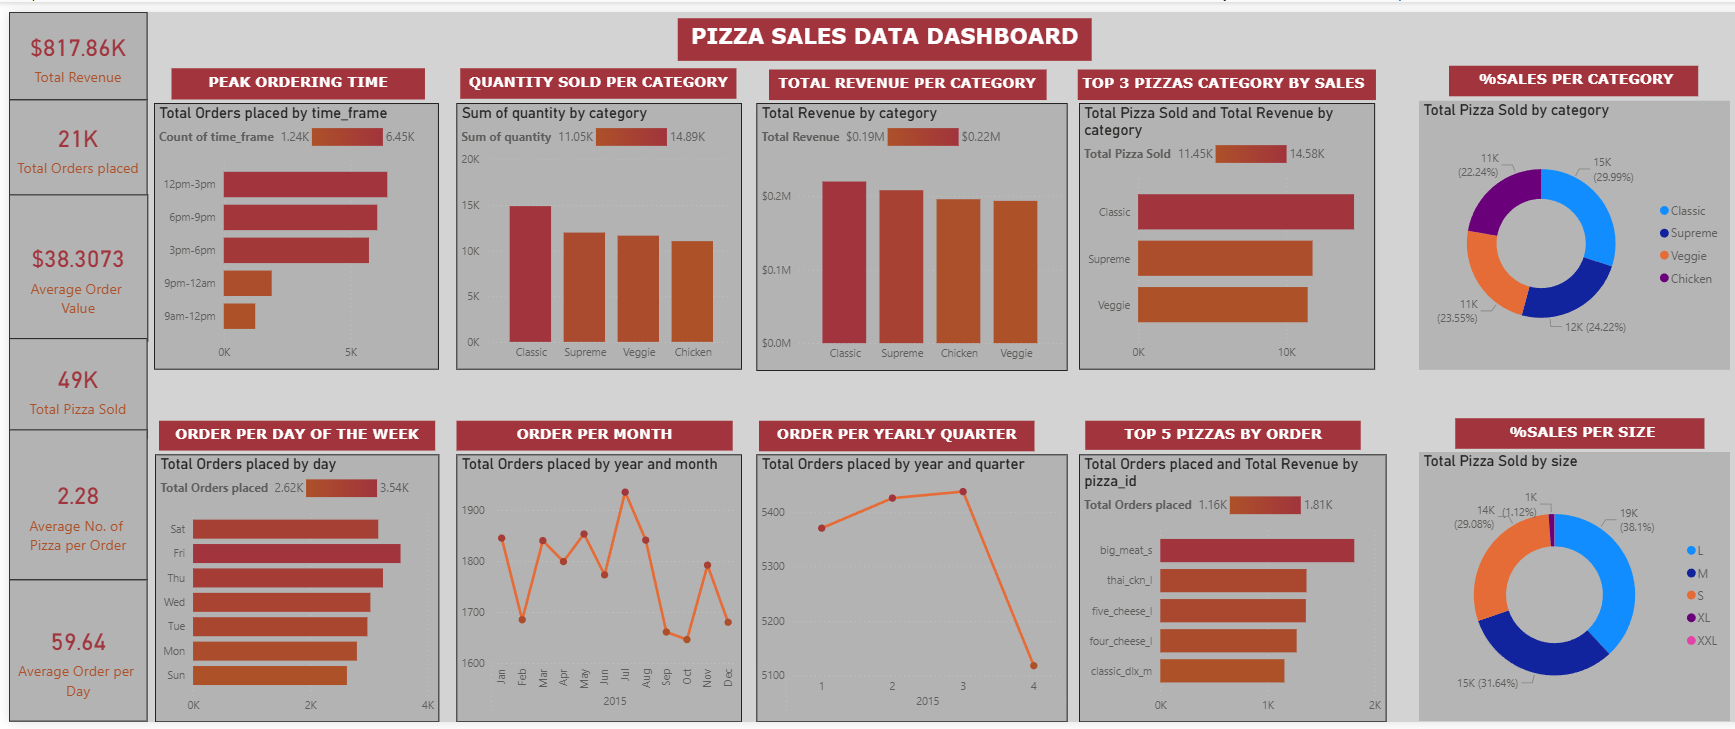

What the dashboard file says about the page in this screenshot:
{"tool":"powerbi","page":{"name":"Page 1","canvas":[2000,800],"ordinal":0},"visuals":[{"type":"barChart","fields":{"Category":["orders.time_frame"],"Y":["orders.Orders placed"]},"box":[163,103.3,320.7,300.3],"z":0},{"type":"card","fields":{"Values":["order_details.Total Revenue"]},"box":[0,0,156.3,99.2],"z":1000},{"type":"card","fields":{"Values":["orders.Total Orders placed"]},"box":[0,98.6,156.3,108.5],"z":2000},{"type":"card","fields":{"Values":["orders.Average Order Value"]},"box":[0,205.8,156.5,165.2],"z":3000},{"type":"card","fields":{"Values":["orders.Total Pizza Sold"]},"box":[0,368.2,156.3,112.8],"z":4000},{"type":"card","fields":{"Values":["order_details.Average No. of Pizza per Order"]},"box":[0,470.1,156.3,169.8],"z":5000},{"type":"card","fields":{"Values":["orders.Average Order per Day"]},"box":[0,639.7,156.3,160.3],"z":6000},{"type":"barChart","fields":{"Y":["orders.Orders placed"],"Category":["date.day"]},"box":[165.2,498.6,320.3,301.4],"z":7000},{"type":"lineChart","fields":{"Category":["date.year","date.month"],"Y":["orders.Total Orders placed"]},"box":[504.3,498.6,321.7,301.4],"z":8000},{"type":"columnChart","fields":{"Category":["pizza_types.category"],"Y":["Sum(order_details.quantity)"]},"box":[504.3,102.9,321.7,300],"z":9000},{"type":"barChart","fields":{"Category":["pizza_types.category"],"Y":["orders.Total Pizza Sold"]},"box":[1205.8,102.9,333.3,300],"z":10000},{"type":"textbox","box":[753.6,7.2,466.7,47.8],"z":11000},{"type":"lineChart","fields":{"Category":["date.year","date.quarter"],"Y":["orders.Total Orders placed"]},"box":[842,498.6,350.7,301.4],"z":12000},{"type":"columnChart","fields":{"Category":["pizza_types.category"],"Y":["order_details.Total Revenue"]},"box":[842,102.9,350.7,301.4],"z":13000},{"type":"barChart","fields":{"Y":["orders.Total Orders placed"],"Category":["pizzas.pizza_id"]},"box":[1205.8,498.6,346.4,301.4],"z":14000},{"type":"textbox","box":[183.4,63.9,285.3,35.3],"z":15000},{"type":"textbox","box":[508.7,63.8,311.6,34.8],"z":16000},{"type":"textbox","box":[856.8,65.5,312.5,34.5],"z":17000},{"type":"textbox","box":[1204.3,65.2,336.2,34.8],"z":18000},{"type":"textbox","box":[1212.5,459.9,310.7,32.7],"z":19000},{"type":"textbox","box":[169.6,459.9,311.1,34],"z":20000},{"type":"textbox","box":[503.9,459.9,311.1,34],"z":21000},{"type":"textbox","box":[845.5,459.9,310.7,34.5],"z":22000},{"type":"donutChart","fields":{"Category":["pizza_types.category"],"Y":["orders.Total Pizza Sold"]},"box":[1588.4,100,350.7,302.9],"z":23000},{"type":"donutChart","fields":{"Category":["pizzas.size"],"Y":["orders.Total Pizza Sold"]},"box":[1588.4,495.7,350.7,302.9],"z":24000},{"type":"textbox","box":[1623.2,60.9,281.2,34.8],"z":25000},{"type":"textbox","box":[1629,458,281.2,34.8],"z":26000}]}

Visuals, with their boxes in screenshot pixels (x1, y1, x2, y2):
barChart - orders.time_frame x orders.Orders placed: locate(149, 101, 434, 367)
card - order_details.Total Revenue: locate(5, 9, 143, 97)
card - orders.Total Orders placed: locate(5, 96, 143, 193)
card - orders.Average Order Value: locate(5, 192, 143, 338)
card - orders.Total Pizza Sold: locate(5, 336, 143, 436)
card - order_details.Average No. of Pizza per Order: locate(5, 426, 143, 577)
card - orders.Average Order per Day: locate(5, 576, 143, 719)
barChart - orders.Orders placed x date.day: locate(151, 451, 435, 719)
lineChart - date.year x date.month: locate(452, 451, 737, 719)
columnChart - pizza_types.category x Sum(order_details.quantity): locate(452, 100, 737, 366)
barChart - pizza_types.category x orders.Total Pizza Sold: locate(1074, 100, 1370, 366)
textbox: locate(673, 15, 1087, 58)
lineChart - date.year x date.quarter: locate(751, 451, 1062, 719)
columnChart - pizza_types.category x order_details.Total Revenue: locate(751, 100, 1062, 368)
barChart - orders.Total Orders placed x pizzas.pizza_id: locate(1074, 451, 1381, 719)
textbox: locate(167, 66, 420, 97)
textbox: locate(456, 66, 732, 96)
textbox: locate(764, 67, 1042, 98)
textbox: locate(1073, 67, 1371, 98)
textbox: locate(1080, 417, 1356, 446)
textbox: locate(155, 417, 431, 447)
textbox: locate(451, 417, 727, 447)
textbox: locate(754, 417, 1030, 448)
donutChart - pizza_types.category x orders.Total Pizza Sold: locate(1413, 98, 1724, 366)
donutChart - pizzas.size x orders.Total Pizza Sold: locate(1413, 449, 1724, 717)
textbox: locate(1444, 63, 1694, 94)
textbox: locate(1449, 415, 1699, 446)
